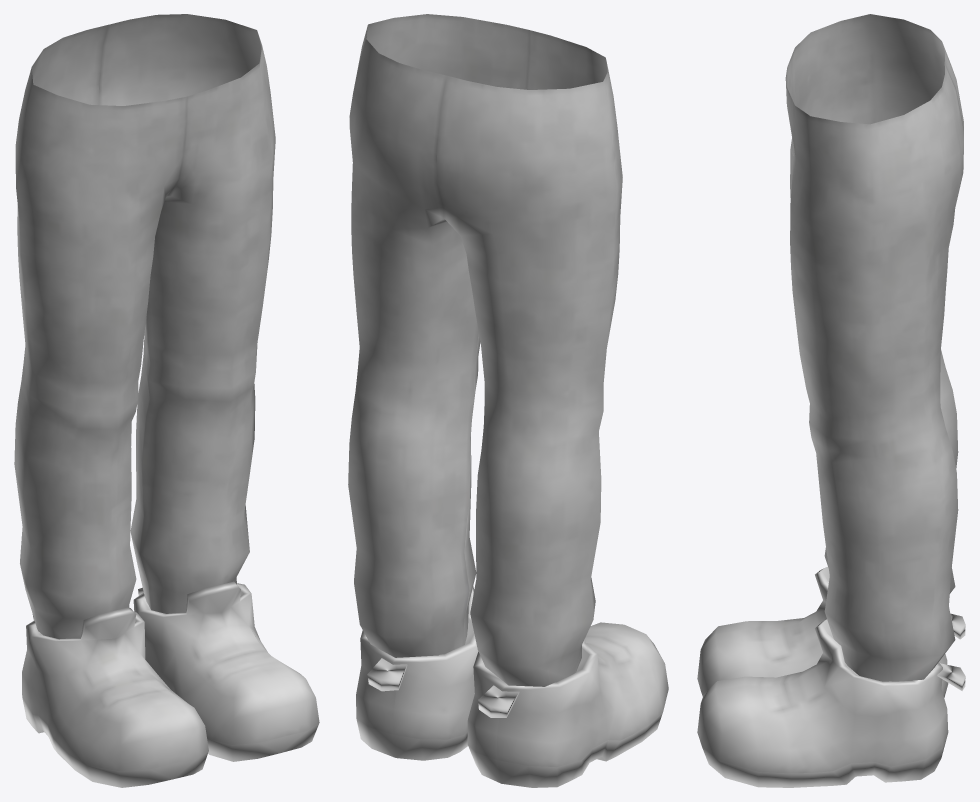
File: tr0740_00_lwb02.gltf
3 renders of one model, left to right at view 1: azimuth 30°, elevation 25°; view 2: azimuth 150°, elevation 25°; view 3: azimuth 270°, elevation 25°, orthographic. The views are drawn at different scales.
Visible parts, largest first — view 1: lwb02_lowerbody_mesh_shape:lowerbody02, lwb02_shoes_mesh_shape:lowerbody02; view 2: lwb02_lowerbody_mesh_shape:lowerbody02, lwb02_shoes_mesh_shape:lowerbody02; view 3: lwb02_lowerbody_mesh_shape:lowerbody02, lwb02_shoes_mesh_shape:lowerbody02.
Part boxes in pixels (x1,y1,x2,y2): lwb02_lowerbody_mesh_shape:lowerbody02: (14,14,275,639); lwb02_shoes_mesh_shape:lowerbody02: (22,581,319,787); lwb02_lowerbody_mesh_shape:lowerbody02: (348,14,622,686); lwb02_shoes_mesh_shape:lowerbody02: (356,586,668,787); lwb02_lowerbody_mesh_shape:lowerbody02: (785,14,963,681); lwb02_shoes_mesh_shape:lowerbody02: (697,566,965,787).
Size of what is drawn, in the model's own units: 0.3721 by 0.9313 by 0.3377.
Materials: 1 (1 with a texture image).
